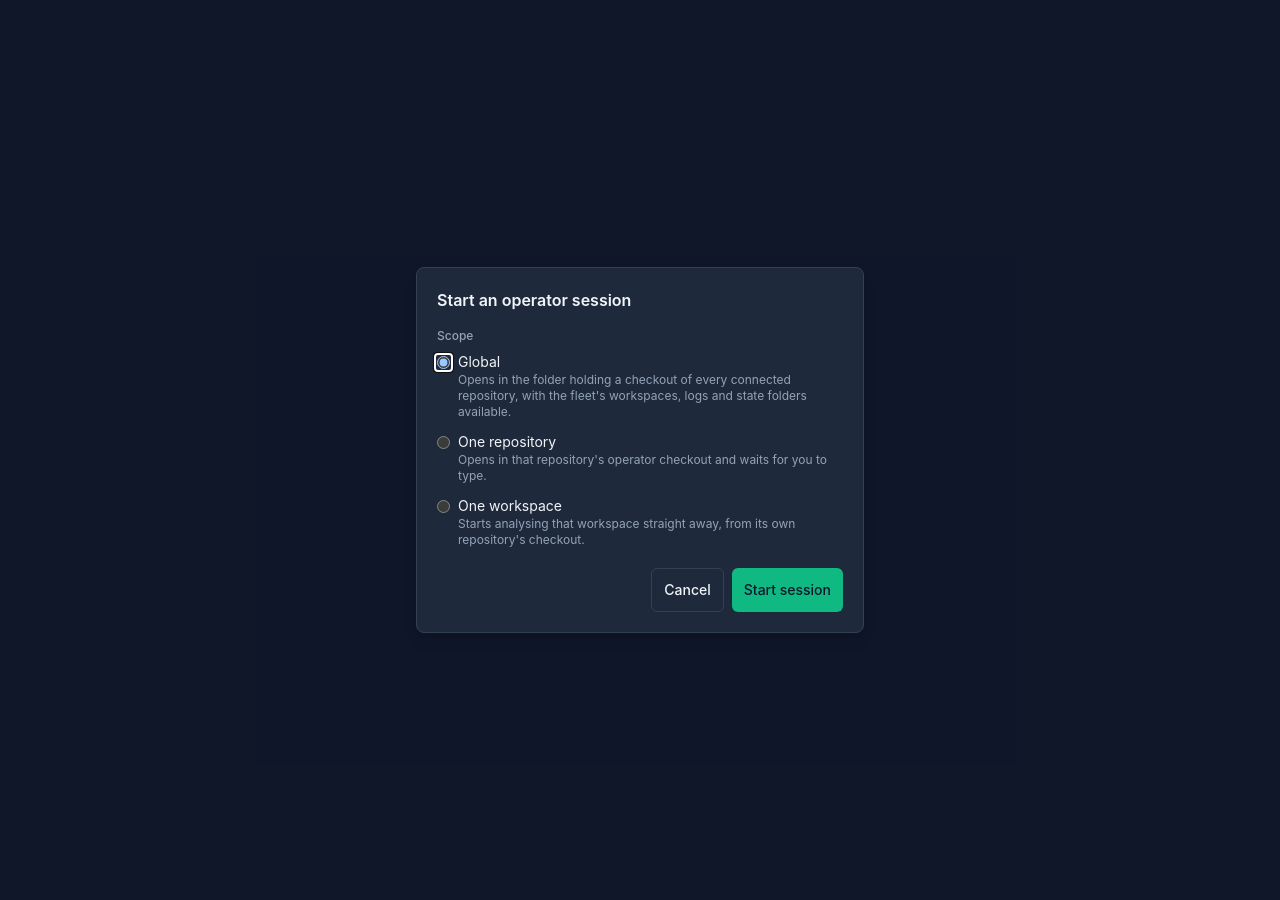
Scenario: ScopePickerDialog — starting a session › shows the server's reason and stays open when the start is refused
Click the button with test id "operator-start-submit" at (787, 590), box [732,568,843,612]
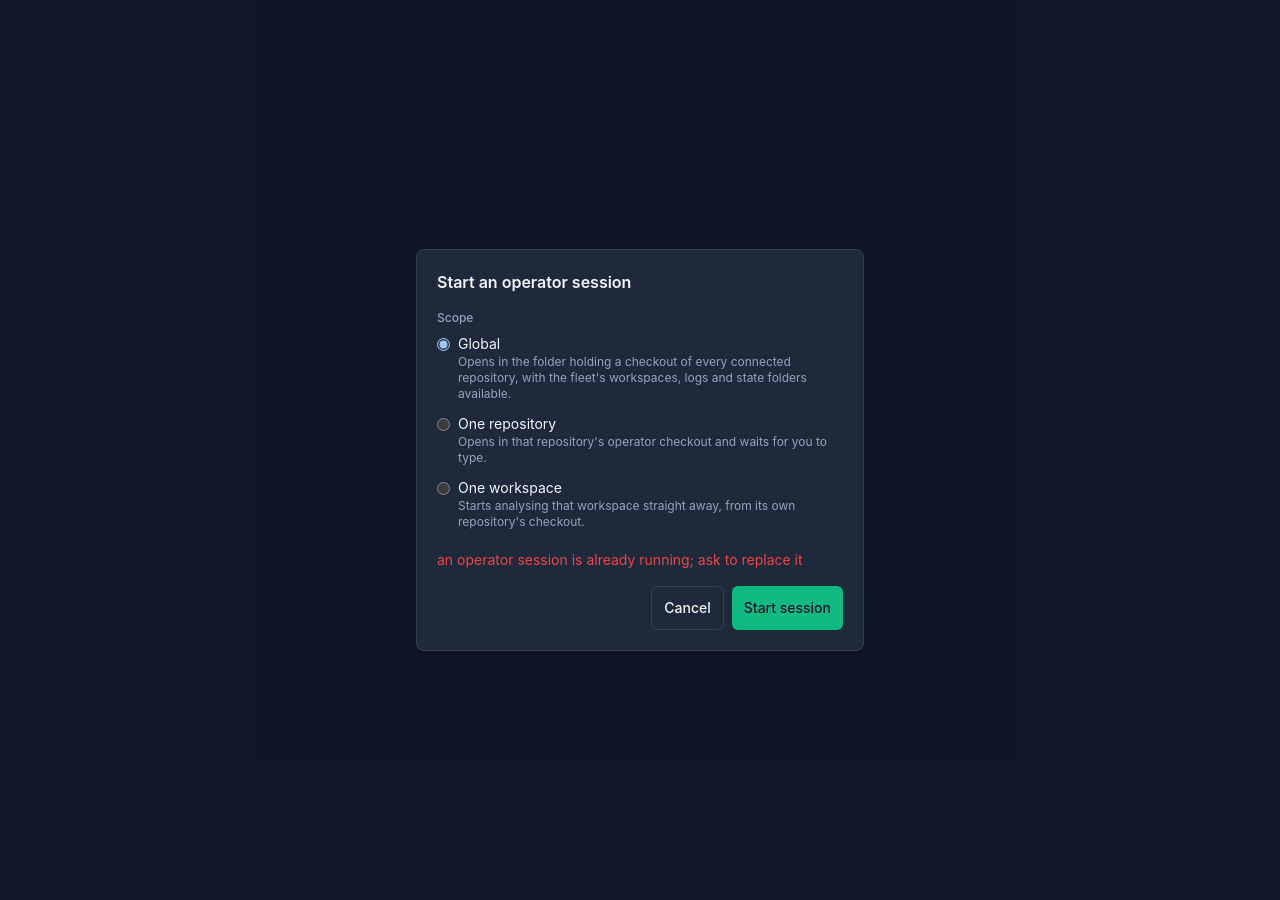
Expected: the button with test id "operator-start-submit" is enabled, [732,586,843,630]
Expected: the message with test id "operator-start-error" reads "an operator session is already running; ask to replace it", [437,551,803,568]
